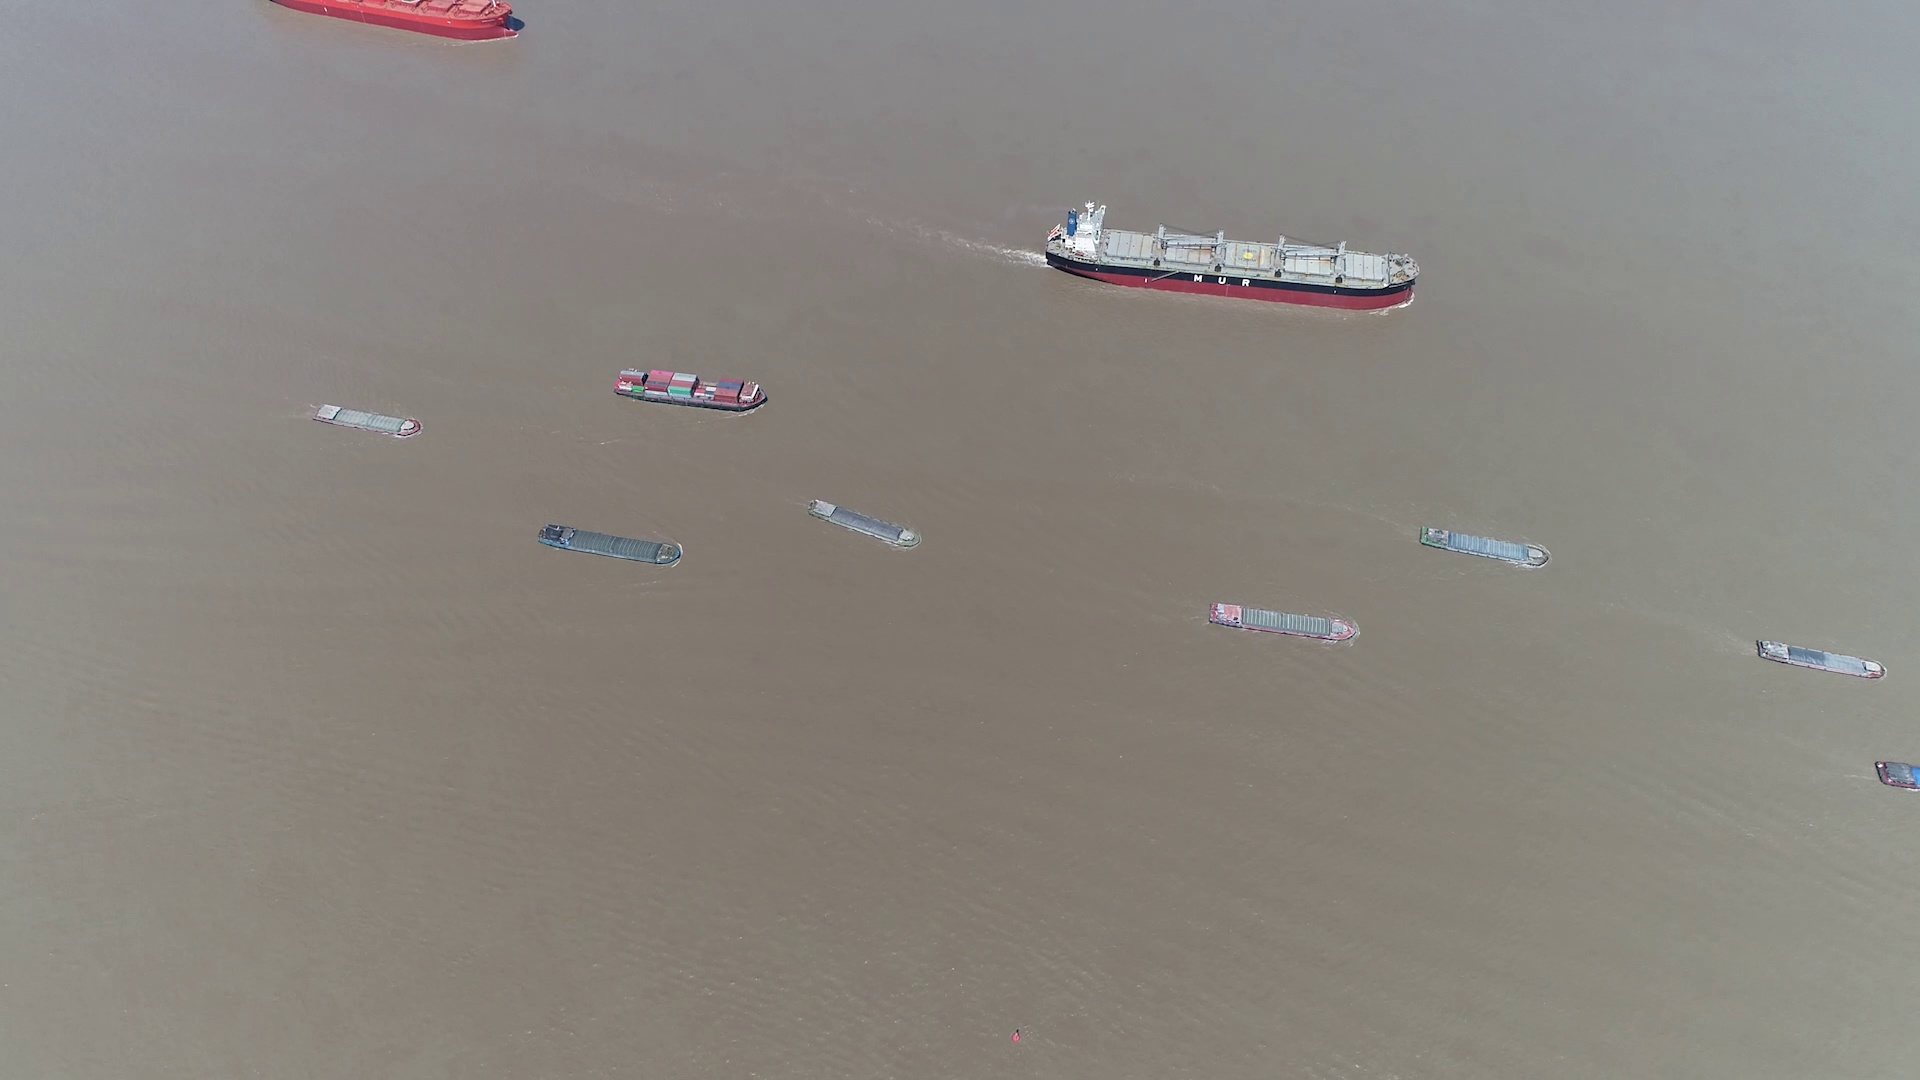ship: (1044, 204, 1419, 306), (266, 0, 522, 42), (615, 367, 767, 411), (538, 524, 683, 567), (1207, 603, 1360, 644), (1418, 525, 1549, 568), (1755, 637, 1887, 680), (810, 498, 922, 549), (313, 404, 421, 439), (1874, 761, 1919, 793)
